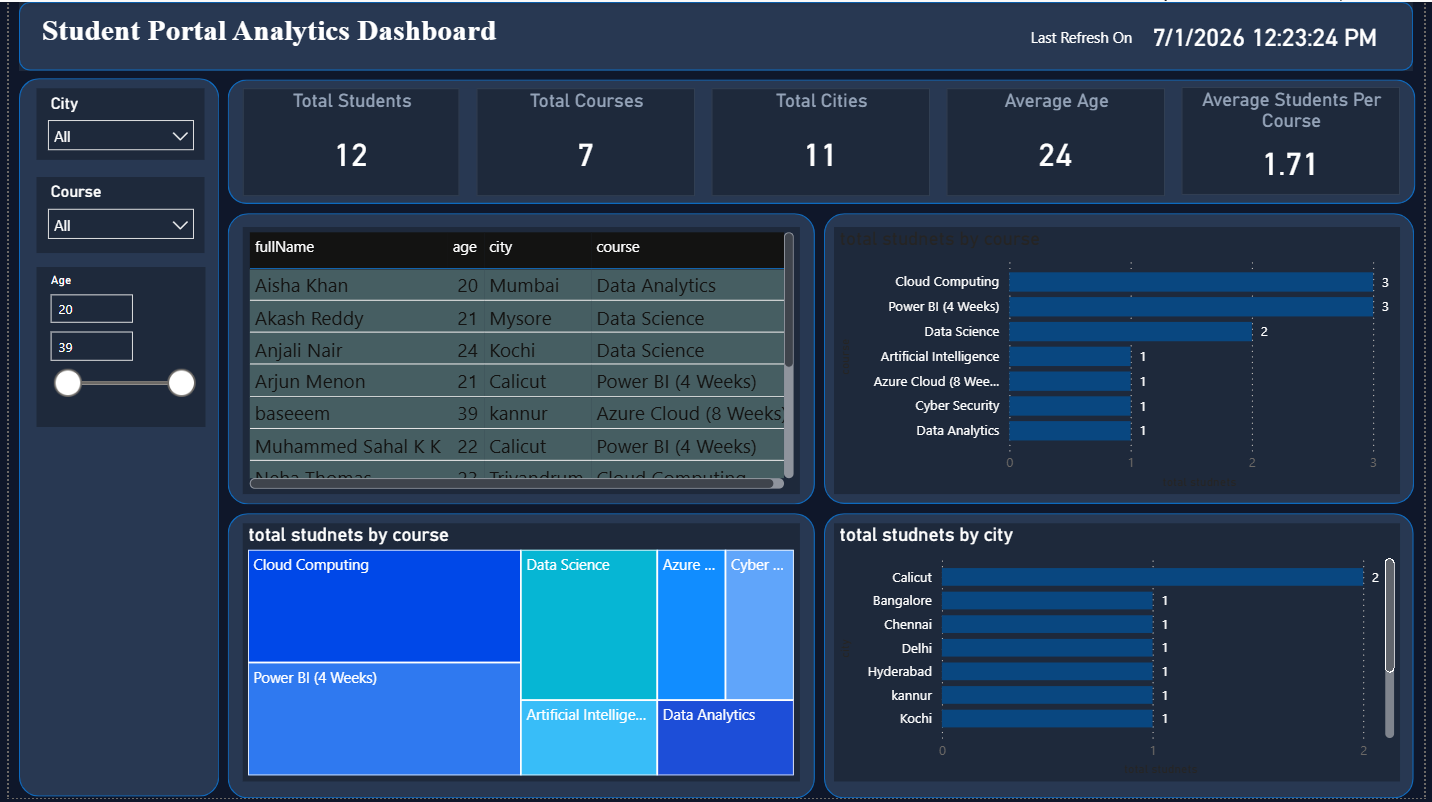

The page's visual inventory and layout, read from the dashboard file:
{"tool":"powerbi","page":{"name":"Page 1","canvas":[1280,720],"ordinal":0},"visuals":[{"type":"shape","box":[9.6,0,1261.1,62],"z":0},{"type":"shape","box":[197.9,70,1074.2,112.5],"z":1000},{"type":"shape","box":[9.6,69.2,181.1,649.9],"z":2000},{"type":"shape","box":[197.6,190.7,531,263.5],"z":3000},{"type":"shape","box":[736.9,190.7,533.8,262.9],"z":4000},{"type":"shape","box":[197.6,462,531,258],"z":5000},{"type":"shape","box":[737.4,462.4,533.2,258],"z":6000},{"type":"card","title":"Total Students ","fields":{"Values":["Table.total studnets"]},"box":[211.3,78.2,196.2,97.4],"z":7000},{"type":"card","title":"Total Courses","fields":{"Values":["Table.Total Courses"]},"box":[422.6,78,197.6,97.4],"z":8000},{"type":"card","title":"Total Cities","fields":{"Values":["Table.Total city"]},"box":[635.3,78,197.6,97.4],"z":9000},{"type":"card","title":"Average Age","fields":{"Values":["Table.Avarage Students"]},"box":[848,78,197.6,97.4],"z":10000},{"type":"card","title":"Average Students Per Course","fields":{"Values":["Table.Avg Students per Course"]},"box":[1060.7,77.4,197.6,97.4],"z":11000},{"type":"textbox","box":[24.7,5.5,642.2,52.1],"z":12000},{"type":"tableEx","fields":{"Values":["students.fullName","students.age","students.city","students.course"]},"box":[211.3,203.1,503.6,241.5],"z":13000},{"type":"barChart","fields":{"Category":["students.course"],"Y":["Table.total studnets"]},"box":[746.5,203.1,511.8,241.5],"z":14000},{"type":"treemap","fields":{"Group":["students.course"],"Values":["Table.total studnets"]},"box":[211.3,472,503.6,233.3],"z":15000},{"type":"barChart","fields":{"Category":["students.city"],"Y":["Table.total studnets"]},"box":[746.5,472,511.8,233.3],"z":16000},{"type":"slicer","fields":{"Values":["students.city"]},"box":[24.7,78.2,152.3,64.5],"z":17000},{"type":"slicer","fields":{"Values":["students.course"]},"box":[24.7,157.8,152.3,68.6],"z":18000},{"type":"slicer","fields":{"Values":["students.age"]},"box":[24.7,240.1,152.3,144.1],"z":19000},{"type":"card","fields":{"Values":["Min(Last Refresh.Last Refresh)"]},"box":[1016.8,5.5,238.8,52.1],"z":20000},{"type":"textbox","box":[919.4,17.8,126.2,27.4],"z":21000}]}

Visuals, with their boxes in screenshot pixels (x1, y1, x2, y2), scaled from the page's 1280x720 canvas onto the 1432x802 screenshot:
shape: x1=11, y1=0, x2=1422, y2=69
shape: x1=221, y1=78, x2=1423, y2=203
shape: x1=11, y1=77, x2=213, y2=801
shape: x1=221, y1=212, x2=815, y2=506
shape: x1=824, y1=212, x2=1422, y2=505
shape: x1=221, y1=515, x2=815, y2=801
shape: x1=825, y1=515, x2=1421, y2=801
"Total Students " card: x1=236, y1=87, x2=456, y2=196
"Total Courses" card: x1=473, y1=87, x2=694, y2=195
"Total Cities" card: x1=711, y1=87, x2=932, y2=195
"Average Age" card: x1=949, y1=87, x2=1170, y2=195
"Average Students Per Course" card: x1=1187, y1=86, x2=1408, y2=195
textbox: x1=28, y1=6, x2=746, y2=64
tableEx - students.fullName x students.age: x1=236, y1=226, x2=800, y2=495
barChart - students.course x Table.total studnets: x1=835, y1=226, x2=1408, y2=495
treemap - students.course x Table.total studnets: x1=236, y1=526, x2=800, y2=786
barChart - students.city x Table.total studnets: x1=835, y1=526, x2=1408, y2=786
slicer - students.city: x1=28, y1=87, x2=198, y2=159
slicer - students.course: x1=28, y1=176, x2=198, y2=252
slicer - students.age: x1=28, y1=267, x2=198, y2=428
card - Min(Last Refresh.Last Refresh): x1=1138, y1=6, x2=1405, y2=64
textbox: x1=1029, y1=20, x2=1170, y2=50
